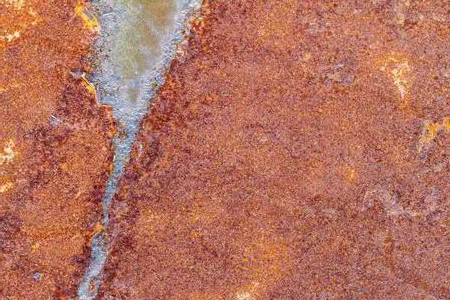Corrosion: (87, 1, 450, 300), (1, 1, 120, 300)
